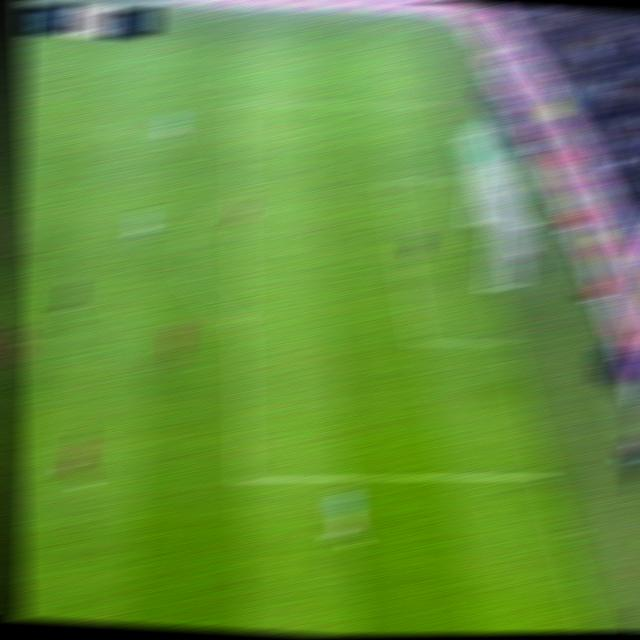bigarea_bottom_inner: (225, 466, 263, 493)
bigarea_bottom_outter: (532, 470, 554, 481)
bigarea_top_inner: (226, 95, 248, 111)
bigarea_top_outter: (426, 99, 446, 109)
bottom_arc_area_intersection: (229, 317, 251, 331)
corner: (402, 24, 426, 31)
smallarea_bottom_inner: (406, 331, 431, 349)
smallarea_bottom_outter: (492, 333, 515, 348)
smallarea_top_inner: (377, 172, 398, 186)
smallarea_top_outter: (445, 172, 469, 185)
top_arc_area_intersection: (228, 188, 249, 198)
